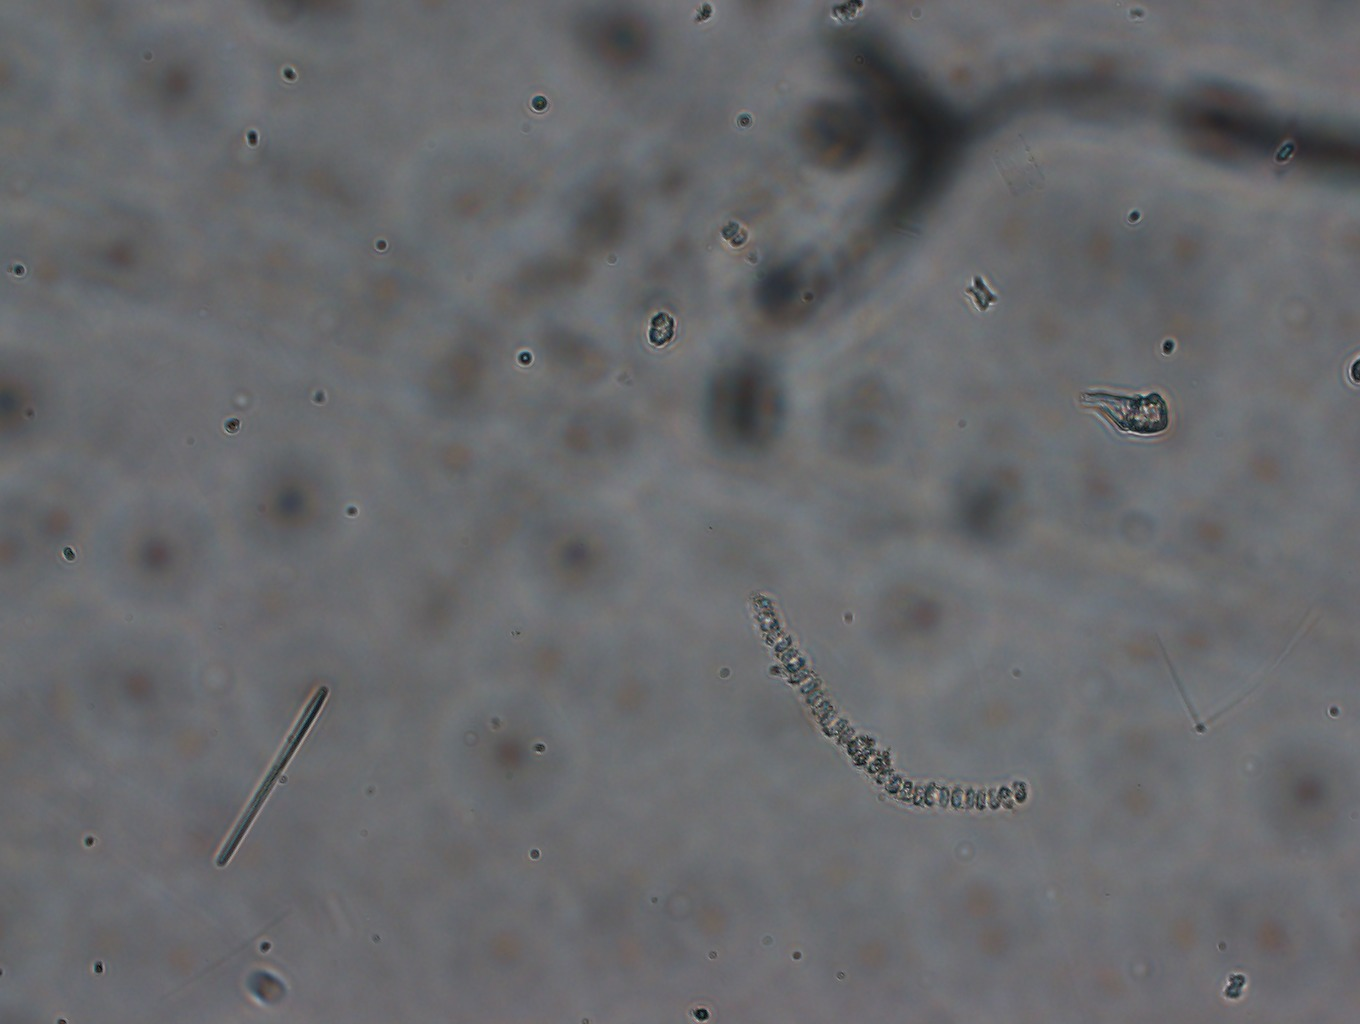skeletonema: (734, 579, 1035, 824)
